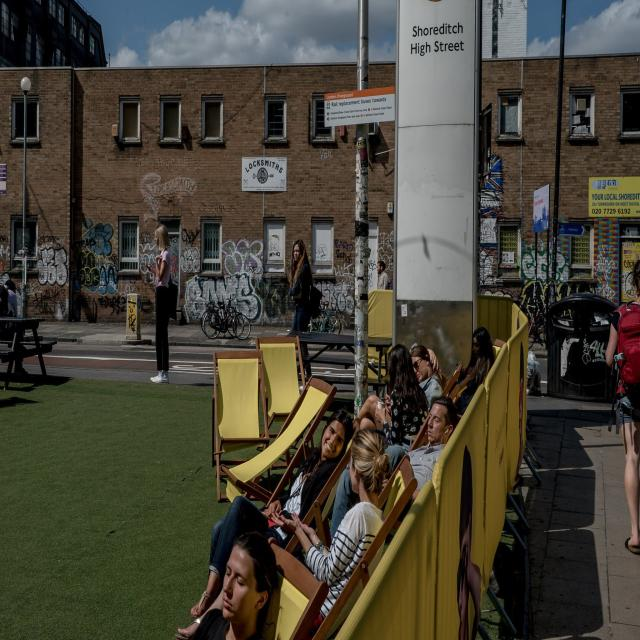body: (174, 427, 392, 640), (188, 407, 360, 619), (329, 395, 457, 545), (602, 252, 640, 559), (348, 342, 446, 441), (191, 531, 278, 640), (452, 443, 484, 638), (285, 238, 323, 394), (144, 223, 179, 386), (374, 343, 429, 446), (452, 326, 496, 416), (516, 339, 526, 473), (376, 260, 389, 290), (387, 256, 393, 290)
